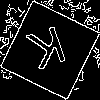K: (25, 25, 72, 80)
